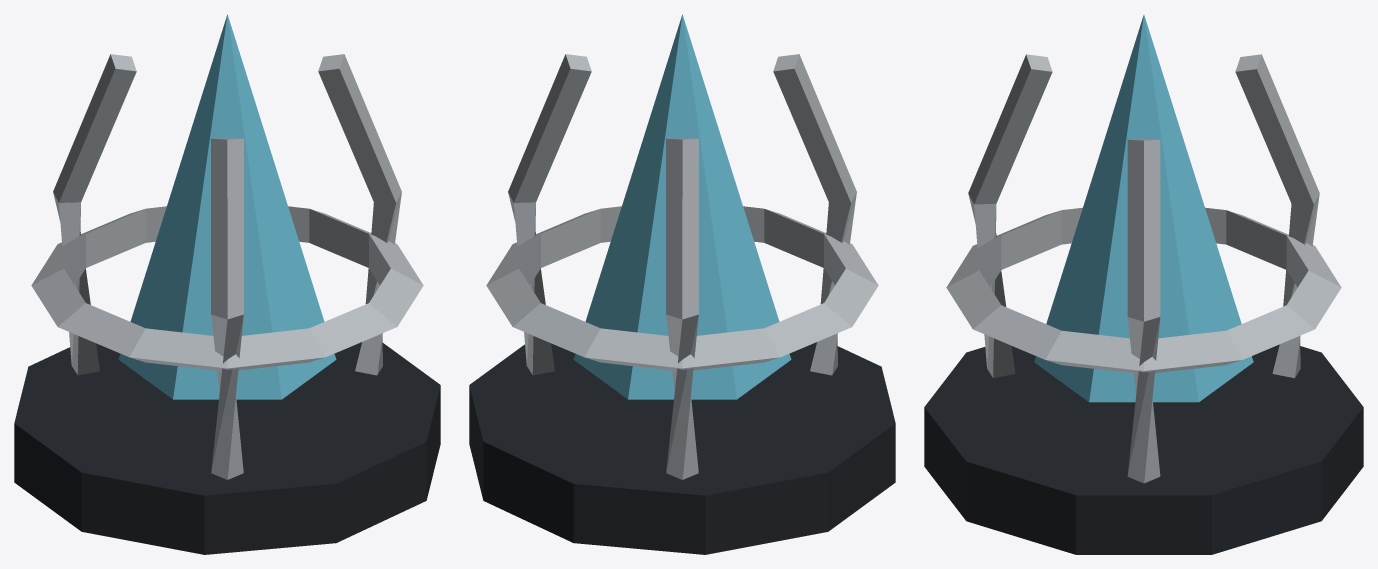
File: focus-generator.glb
3 renders of one model, left to right at view 1: azimuth 30°, elevation 25°; view 2: azimuth 150°, elevation 25°; view 3: azimuth 270°, elevation 25°, orthographic.
Parts seen in each view (by area): view 1: m; view 2: m; view 3: m.
Part boxes in pixels (box(x1,y1,x2,y2)): m: box(14, 14, 440, 554); m: box(469, 14, 895, 554); m: box(924, 15, 1363, 554).
Size of the model in its own units: 0.0752 by 0.09 by 0.0791.
